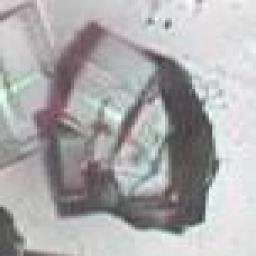crystals: (22, 18, 228, 241)
